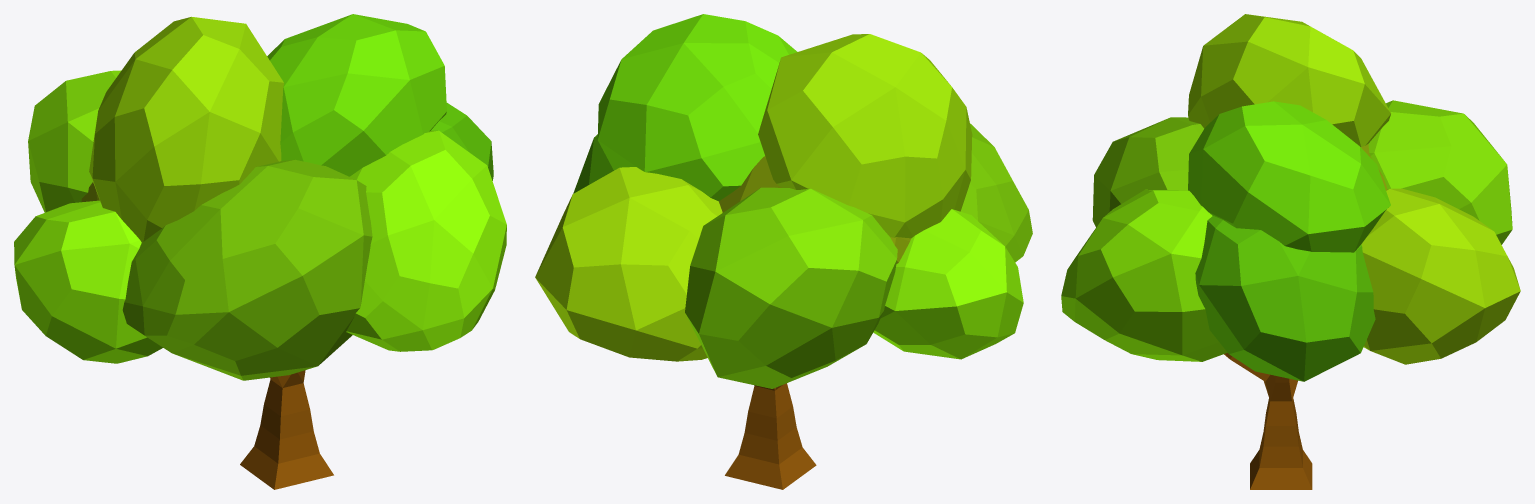
Rendered from hugeTree.glb.
The picture shows the model from 3 angles, left to right: view 1: azimuth 30°, elevation 25°; view 2: azimuth 150°, elevation 25°; view 3: azimuth 270°, elevation 25°; orthographic projection. The views are drawn at different scales.
Visible parts, largest first — view 1: Cube; view 2: Cube; view 3: Cube.
Boxes of the visible parts, bbox=[...] form: Cube: bbox=[14, 14, 506, 489]; Cube: bbox=[535, 14, 1032, 489]; Cube: bbox=[1061, 14, 1520, 489].
Size of the model in its own units: 10.21 by 10 by 9.95.
